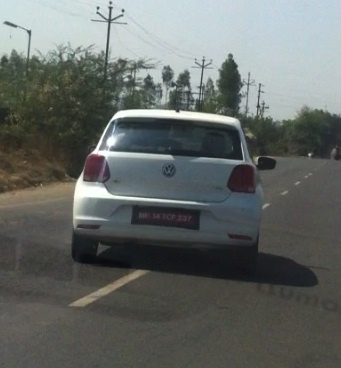plate: (115, 196, 207, 241)
